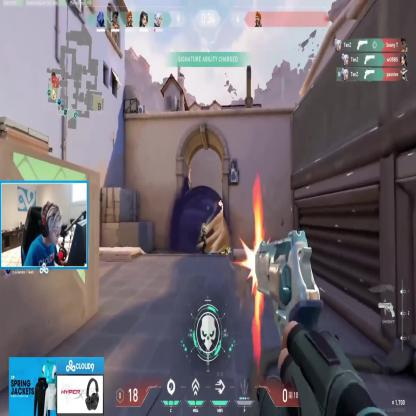enemy: (200, 221, 207, 254)
enemy_head: (203, 222, 205, 228)
